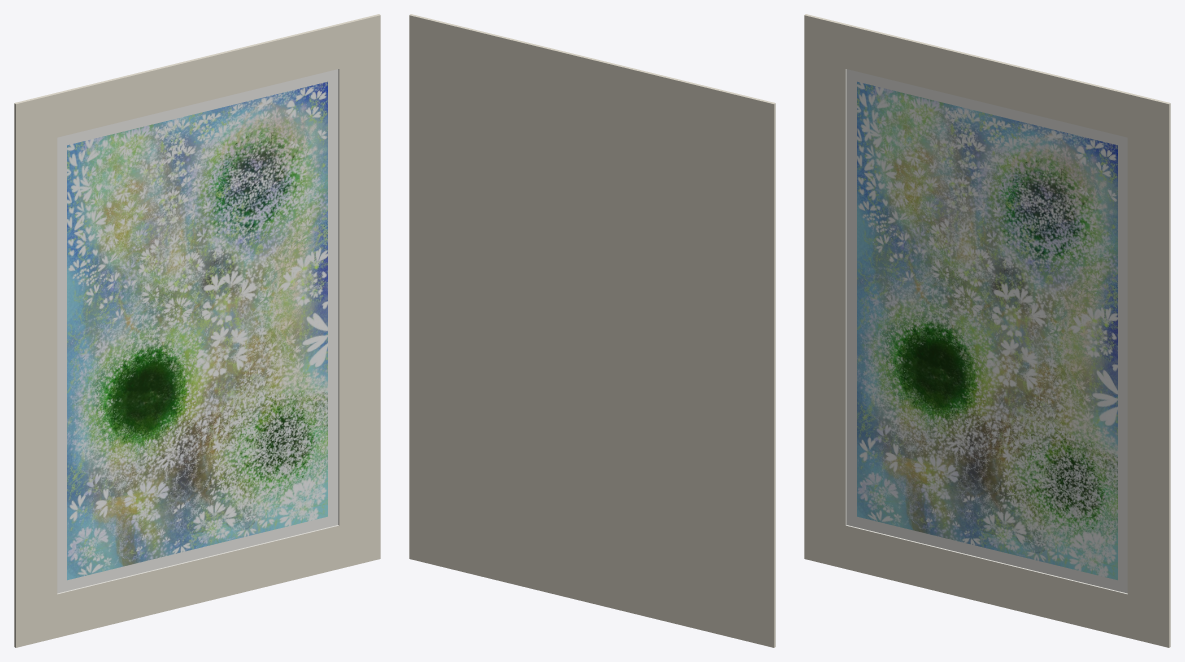
The model's file is os032_moyen_passe-partout.glb.
3 views of the same model, side by side, from view 1: azimuth 30°, elevation 25°; view 2: azimuth 150°, elevation 25°; view 3: azimuth 330°, elevation 25° (orthographic).
Parts seen in each view (by area): view 1: os032_moyen_passe-partout; view 2: os032_moyen_passe-partout; view 3: os032_moyen_passe-partout.
Boxes of the visible parts, bbox=[...] form: os032_moyen_passe-partout: bbox=[14, 14, 380, 647]; os032_moyen_passe-partout: bbox=[409, 14, 775, 647]; os032_moyen_passe-partout: bbox=[804, 14, 1170, 647].
Size of the model in its own units: 0.7024 by 1 by 0.0055.
4 materials, 1 textured.
